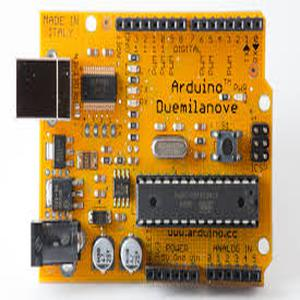duino: (18, 6, 272, 294)
